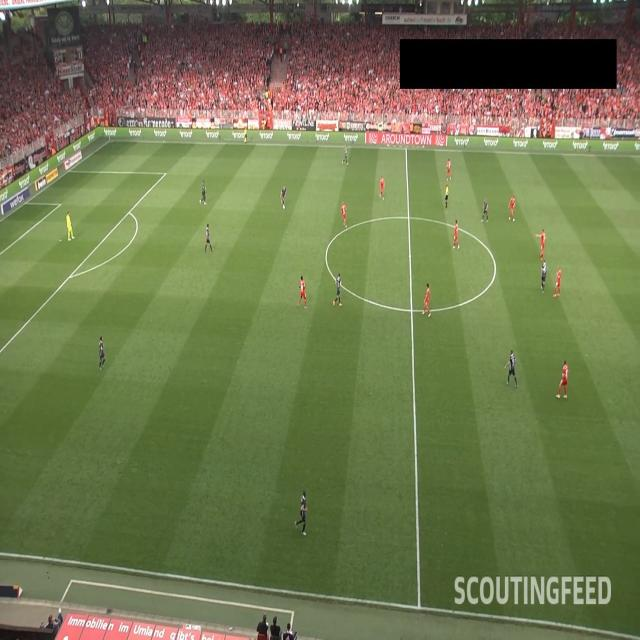ball: (282, 204, 286, 210)
